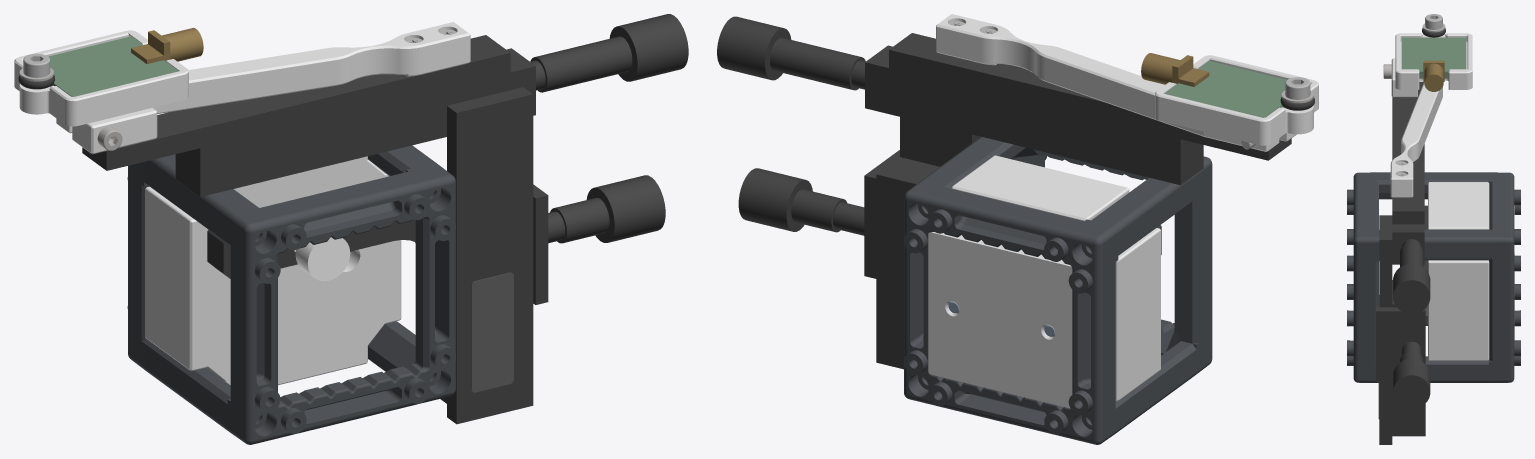
Rendered from ASS_-_3005_-_CUBMANXYST04DIA_-_B.glb.
The picture shows the model from 3 angles, left to right: view 1: azimuth 30°, elevation 25°; view 2: azimuth 150°, elevation 25°; view 3: azimuth 270°, elevation 25°; orthographic projection. The views are drawn at different scales.
Parts seen in each view (by area): view 1: BUY - Microscope XY stage - type 04 --- X stage:1, PRT - 1003 - CUBHLF111 - V04:2, PRT - 3014 - UPPCLPPCE - V04 - A:1, BUY - Microscope XY stage - type 04 --- Y stage:1, BUY - Microscope XY stage - type 04 --- Base:1, PRT - 3012 - LVR - A:1, PRT - 1003 - CUBHLF111 - V04:1, PRT - 3007 - DIABRDHOL - A:1, BRD - Diamands board with HF antenna:1, PRT - 5005 - STKCAUHNDCRU25x10:1, PRT - 3011 - MNTZAX - B:1; view 2: PRT - 1003 - CUBHLF111 - V04:1, BUY - Microscope XY stage - type 04 --- X stage:1, PRT - 3015 - LOWCLPPCE:1, BUY - Microscope XY stage - type 04 --- Base:1, PRT - 3014 - UPPCLPPCE - V04 - A:1, PRT - 1003 - CUBHLF111 - V04:2, PRT - 3012 - LVR - A:1, BUY - Microscope XY stage - type 04 --- Y stage:1, PRT - 3007 - DIABRDHOL - A:1, BRD - Diamands board with HF antenna:1; view 3: PRT - 3014 - UPPCLPPCE - V04 - A:1, PRT - 1003 - CUBHLF111 - V04:2, PRT - 1003 - CUBHLF111 - V04:1, BUY - Microscope XY stage - type 04 --- Base:1, BUY - Microscope XY stage - type 04 --- X stage:1, BRD - Diamands board with HF antenna:1, PRT - 3012 - LVR - A:1, BUY - Microscope XY stage - type 04 --- Y stage:1, PRT - 3007 - DIABRDHOL - A:1, PRT - 3011 - MNTZAX - B:1, ISO 4762 - Hex socket head cap screw - M3 x 8 - A2-50:1.
Boxes of the visible parts, bbox=[...] form: BUY - Microscope XY stage - type 04 --- X stage:1: bbox=[175, 14, 688, 424]; PRT - 1003 - CUBHLF111 - V04:2: bbox=[144, 154, 455, 444]; PRT - 3014 - UPPCLPPCE - V04 - A:1: bbox=[145, 156, 401, 385]; BUY - Microscope XY stage - type 04 --- Y stage:1: bbox=[82, 35, 510, 170]; BUY - Microscope XY stage - type 04 --- Base:1: bbox=[207, 175, 665, 403]; PRT - 3012 - LVR - A:1: bbox=[56, 22, 470, 133]; PRT - 1003 - CUBHLF111 - V04:1: bbox=[127, 145, 435, 431]; PRT - 3007 - DIABRDHOL - A:1: bbox=[14, 30, 188, 126]; BRD - Diamands board with HF antenna:1: bbox=[48, 28, 203, 96]; PRT - 5005 - STKCAUHNDCRU25x10:1: bbox=[471, 272, 513, 392]; PRT - 3011 - MNTZAX - B:1: bbox=[72, 108, 157, 154]; PRT - 1003 - CUBHLF111 - V04:1: bbox=[903, 136, 1196, 444]; BUY - Microscope XY stage - type 04 --- X stage:1: bbox=[717, 16, 1203, 185]; PRT - 3015 - LOWCLPPCE:1: bbox=[928, 232, 1072, 408]; BUY - Microscope XY stage - type 04 --- Base:1: bbox=[738, 150, 1161, 369]; PRT - 3014 - UPPCLPPCE - V04 - A:1: bbox=[951, 155, 1160, 401]; PRT - 1003 - CUBHLF111 - V04:2: bbox=[925, 147, 1212, 382]; PRT - 3012 - LVR - A:1: bbox=[936, 14, 1279, 151]; BUY - Microscope XY stage - type 04 --- Y stage:1: bbox=[889, 33, 1291, 160]; PRT - 3007 - DIABRDHOL - A:1: bbox=[1155, 55, 1318, 145]; BRD - Diamands board with HF antenna:1: bbox=[1141, 53, 1286, 117]; PRT - 3014 - UPPCLPPCE - V04 - A:1: bbox=[1428, 182, 1489, 360]; PRT - 1003 - CUBHLF111 - V04:2: bbox=[1347, 172, 1488, 382]; PRT - 1003 - CUBHLF111 - V04:1: bbox=[1379, 172, 1520, 382]; BUY - Microscope XY stage - type 04 --- Base:1: bbox=[1376, 205, 1430, 436]; BUY - Microscope XY stage - type 04 --- X stage:1: bbox=[1379, 215, 1430, 444]; BRD - Diamands board with HF antenna:1: bbox=[1401, 37, 1466, 91]; PRT - 3012 - LVR - A:1: bbox=[1390, 82, 1442, 197]; BUY - Microscope XY stage - type 04 --- Y stage:1: bbox=[1392, 81, 1424, 224]; PRT - 3007 - DIABRDHOL - A:1: bbox=[1395, 33, 1472, 89]; PRT - 3011 - MNTZAX - B:1: bbox=[1391, 58, 1417, 97]; ISO 4762 - Hex socket head cap screw - M3 x 8 - A2-50:1: bbox=[1425, 14, 1442, 29].
Size of the model in its own units: 150 by 96.1 by 53.8.
